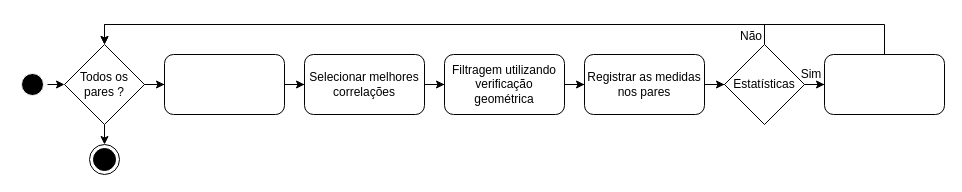
Image size: 962x192. Some labels were removed from this diagram. The box of each missing label's shape, as (x1, y1, x2, y2) in pixels:
Correlacionar feições: (164, 54, 284, 114)
Reportar estatisticas: (824, 54, 944, 114)
